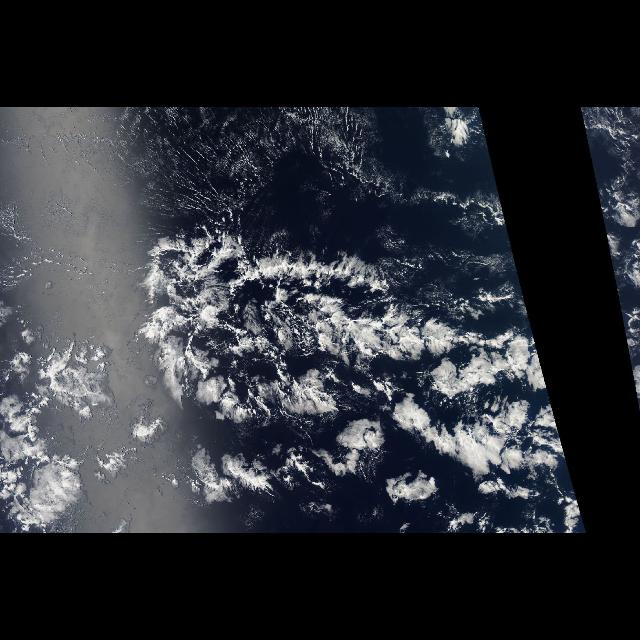Fish: (153, 220, 485, 374)
Flower: (135, 293, 447, 513)
Gravel: (156, 115, 382, 205)
Sugar: (104, 109, 406, 231)
